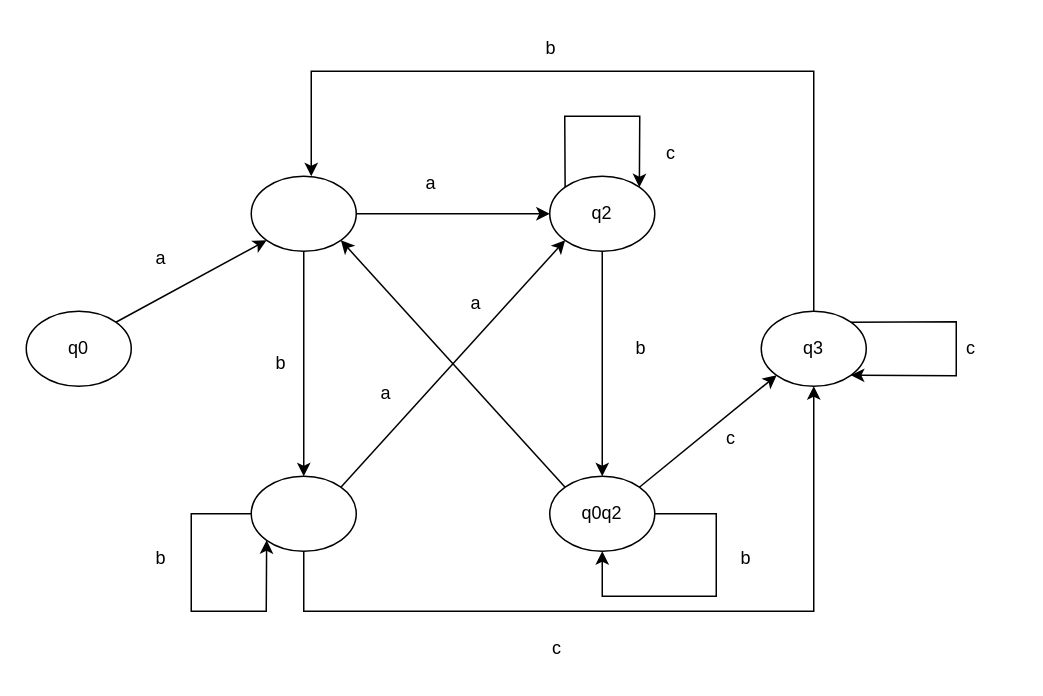
Some shapes in this 1043 by 696 pixel diagram are drawn without their labels. Here are the shapes that lost their labels. From the top down, the centre of each, then its label:
(303,213): q1
(303,513): q1q3
